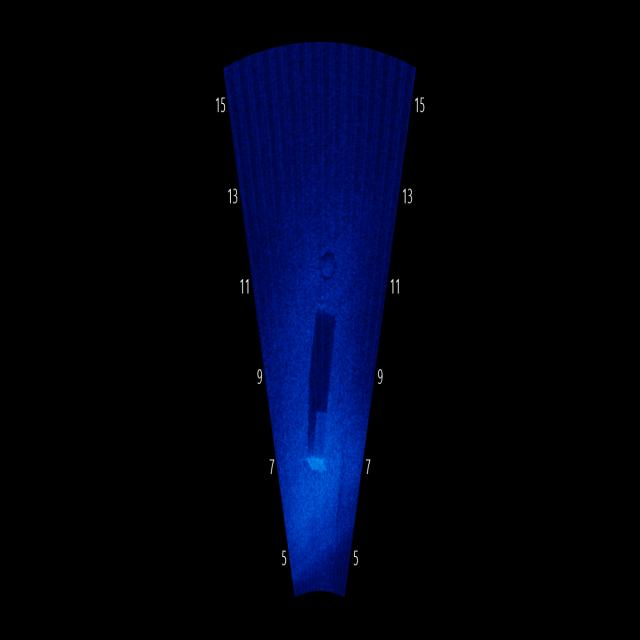square: (303, 396, 337, 482)
